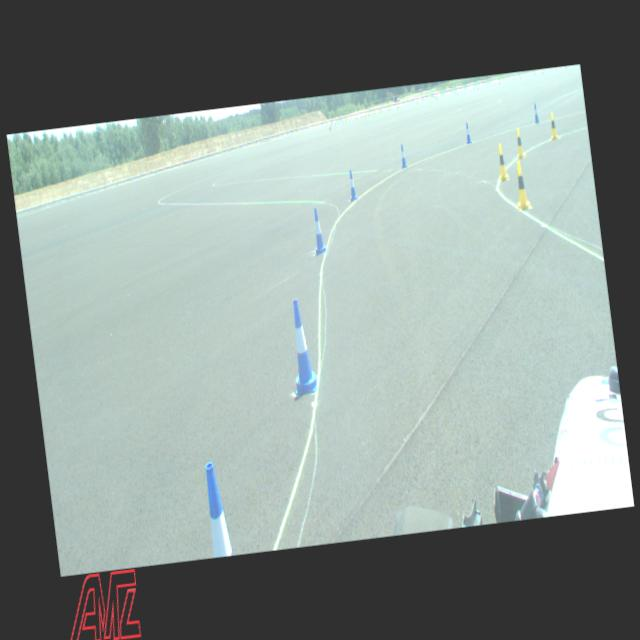blue_cone: (284, 298, 318, 393), (202, 461, 233, 557), (310, 206, 326, 254), (347, 170, 357, 200), (399, 144, 407, 168), (464, 121, 472, 142), (532, 102, 540, 121)
yellow_cone: (512, 161, 530, 208), (495, 143, 508, 179), (514, 127, 525, 158), (548, 112, 558, 138)
